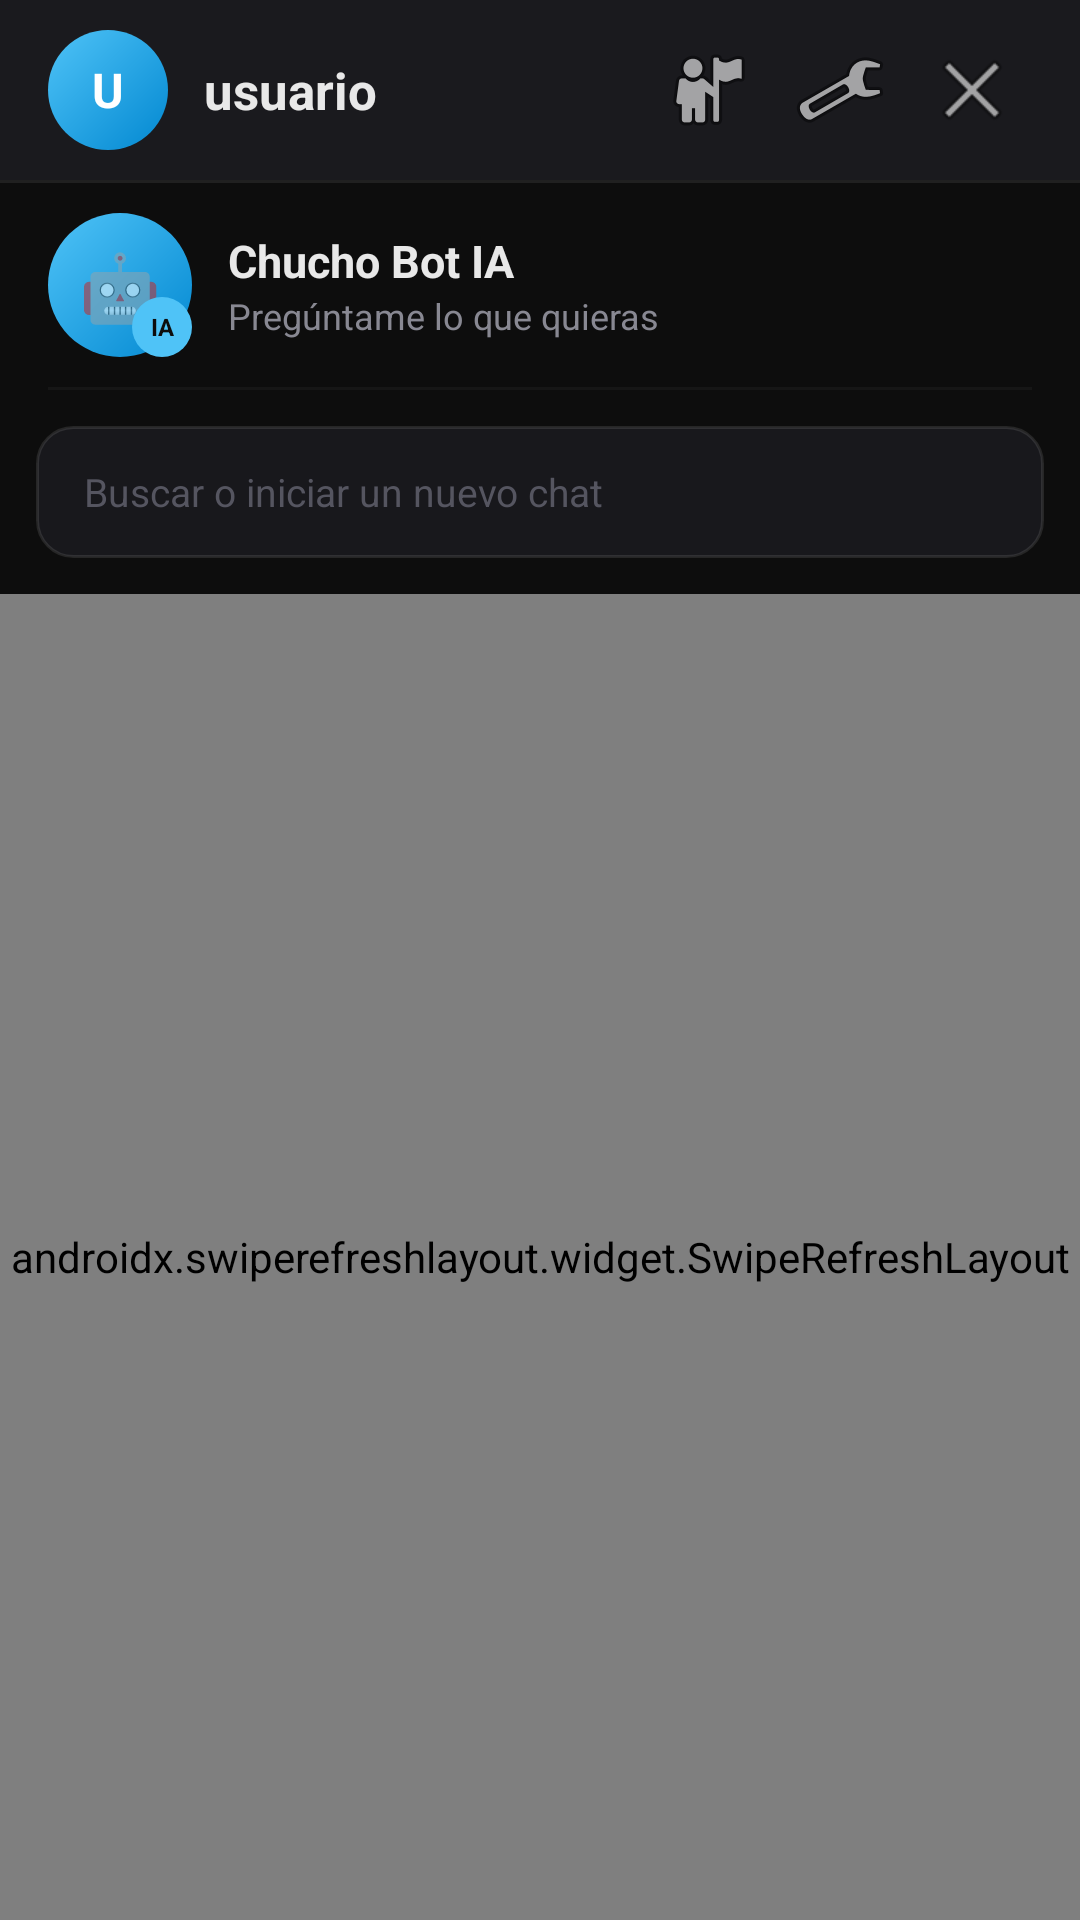

Where to tap for icons on this 1080*1920 app screen, as [x,y]:
Cerrar sesión: [972,90]
